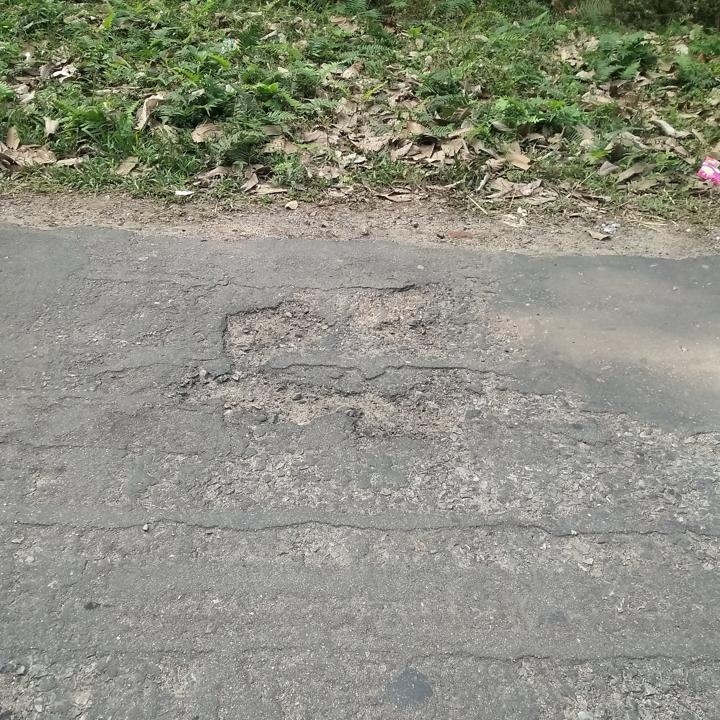pothole: (172, 278, 486, 446)
